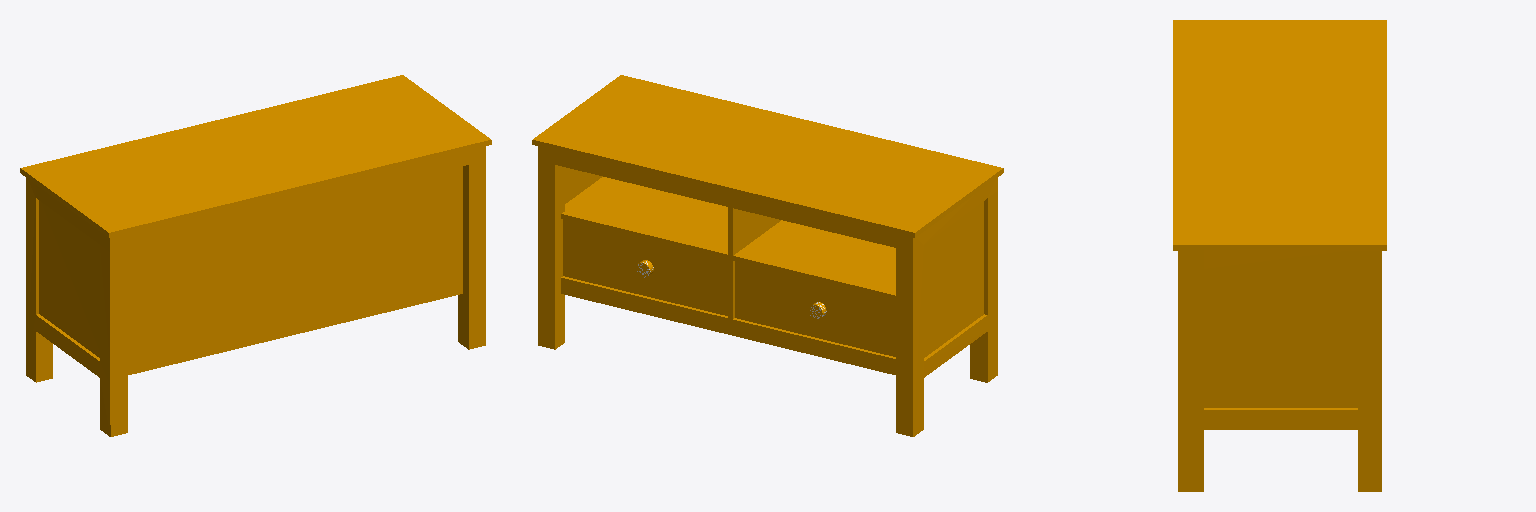
robot.urdf — my_object:
<?xml version="1.0" ?> 
<robot name="my_object" static="true">
  <link name="base_link">
  <inertial>
    <mass value="5.0" />
    <origin xyz="0 0 0.0" />
    <inertia ixx="1.0" ixy="0.0" ixz="0.0" iyy="1.0" iyz="0.0" izz="1.0"/>
  </inertial>
  <visual>
   <origin xyz="0 0 0.0" rpy="0 0 0" />
   <geometry>
     <mesh filename="package://cob_gazebo_objects/Media/models/TV-Bank_Hemnes.dae"/>
   </geometry>
  </visual>
  <collision>
   <origin xyz="0 0 0.0" rpy="0 0 0" />
   <geometry>
     <mesh filename="package://cob_gazebo_objects/Media/models/TV-Bank_Hemnes_boundings.dae" />
   </geometry>
  </collision>     
  </link>

<gazebo>
	<static>true</static>
</gazebo>
</robot>

--- What the picture shows (computed from the rendered views, not written in the file) ---
Views: 3 orthographic renders of the robot side by side, from view 1: azimuth 30°, elevation 25°; view 2: azimuth 150°, elevation 25°; view 3: azimuth 270°, elevation 25°.
Model my_object with 1 links and 0 joints (none), rooted at base_link, posed every joint at zero.
Visible links, largest first — view 1: base_link; view 2: base_link; view 3: base_link.
Boxes of the visible links, left/top/right/bottom form: base_link: left=20, top=75, right=491, bottom=436; base_link: left=532, top=75, right=1003, bottom=436; base_link: left=1173, top=20, right=1386, bottom=491.
Size in the robot's own frame: 0.028 by 0.0112 by 0.0145 metres.
Meshes: 1 distinct files referenced, 1 mesh visuals loaded (1 Collada DAE).